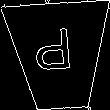P_S: (37, 30, 81, 82)
